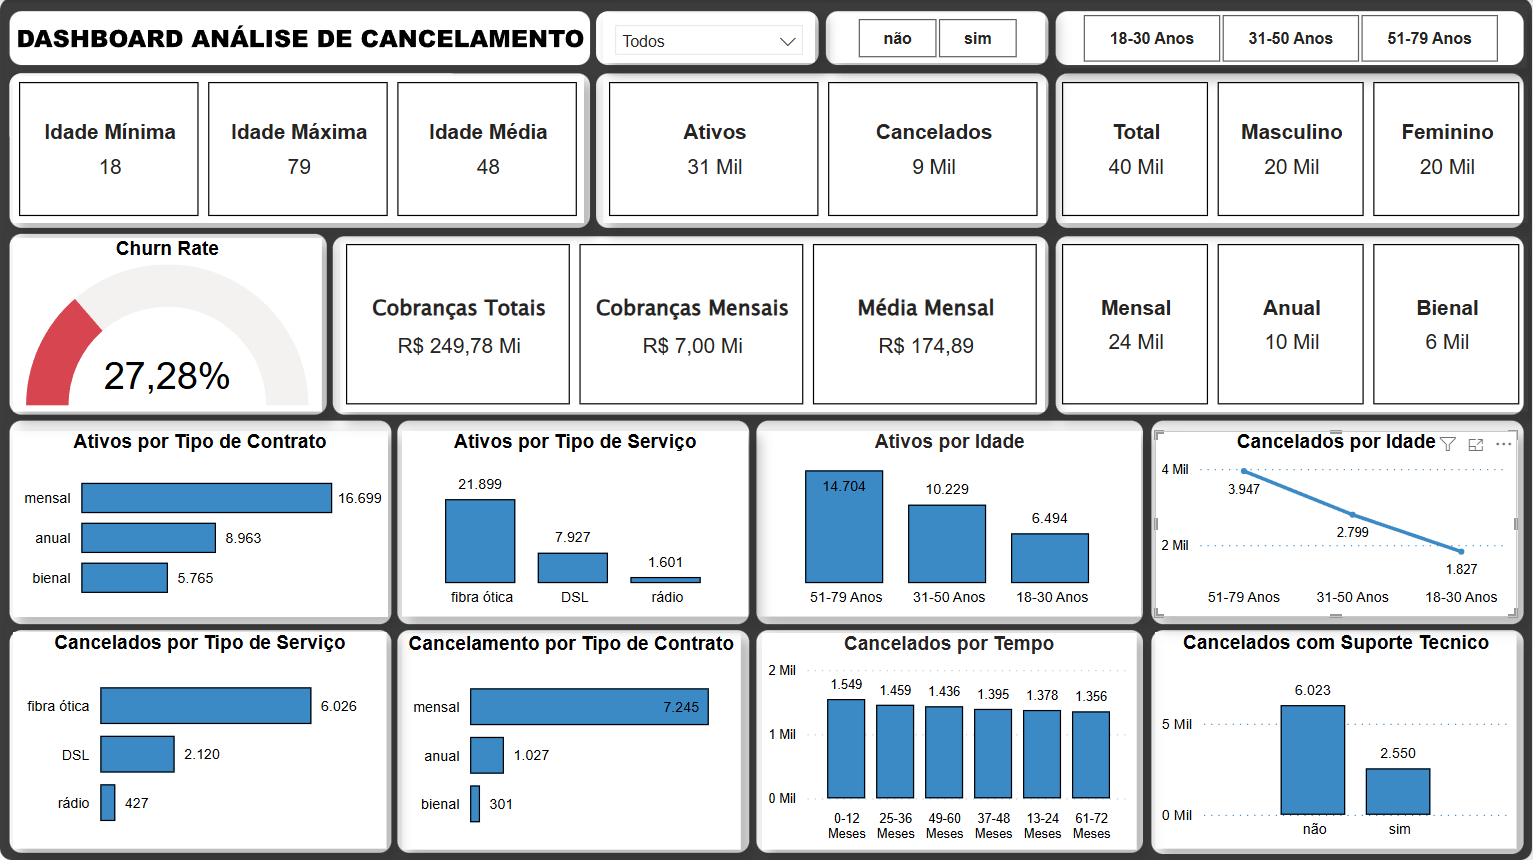

This screenshot's page, from the dashboard's own definition file:
{"tool":"powerbi","page":{"name":"Cancelamento","canvas":[1280,720],"ordinal":0},"visuals":[{"type":"slicer","fields":{"Values":["Cancelamento.Idade (grupos)"]},"box":[881.2,7.8,393.9,48.6],"z":1000},{"type":"slicer","fields":{"Values":["Cancelamento.TipoContrato"]},"box":[503.8,10.7,177,41.8],"z":2000},{"type":"cardVisual","fields":{"Data":["Medidas.Idade Mínima","Medidas.Idade Máxima","Medidas.Idade Média"]},"box":[10.7,63.2,476.6,122.6],"z":3000},{"type":"cardVisual","fields":{"Data":["Medidas.Cobranças Totais","Medidas.Cobranças Mensais","Medidas.Média de Cobranças Mensais"]},"box":[283.6,198.7,589.4,144.7],"z":4000},{"type":"cardVisual","fields":{"Data":["Medidas.Clientes Totais","Medidas.Total Masculino","Medidas.Total Feminino"]},"box":[881.6,63.7,393.5,122.5],"z":5000},{"type":"cardVisual","fields":{"Data":["Medidas.Contratos Mensais","Medidas.Contratos Anuais","Medidas.Contratos Bienais"]},"box":[881.6,198.7,393.5,144.7],"z":6000},{"type":"cardVisual","fields":{"Data":["Medidas.Clientes Ativos","Medidas.Clientes Cancelados"]},"box":[503.8,63.2,369.6,122.6],"z":7000},{"type":"slicer","fields":{"Values":["Cancelamento.Cancelamento"]},"box":[693.5,10.7,180,42],"z":8000},{"type":"barChart","title":"Cancelamento por Tipo de Contrato","fields":{"Category":["Cancelamento.TipoContrato"],"Y":["Medidas.Cancelados"]},"box":[335.7,528.6,282.6,181.3],"z":9000},{"type":"barChart","title":"Ativos por Tipo de Contrato","fields":{"Category":["Cancelamento.TipoContrato"],"Y":["Medidas.Clientes Ativos"]},"box":[10.6,359.8,312.5,155.3],"z":10000},{"type":"columnChart","title":"Ativos por Idade","fields":{"Category":["Cancelamento.Idade (grupos)"],"Y":["Medidas.Clientes Ativos"]},"box":[632.8,359.8,320.2,155.3],"z":11000},{"type":"lineChart","title":"Cancelados por Idade","fields":{"Category":["Cancelamento.Idade (grupos)"],"Y":["Medidas.Clientes Cancelados"]},"box":[964.6,359.8,302.9,155.3],"z":12000},{"type":"gauge","fields":{"Y":["Medidas.Churn Rate"]},"box":[10.7,198.4,257.8,144.9],"z":13000},{"type":"columnChart","title":"Cancelados com Suporte Tecnico","fields":{"Category":["Cancelamento.SuporteTecnico"],"Y":["Medidas.Clientes Cancelados"]},"box":[964.9,528.1,302.5,180.9],"z":14000},{"type":"columnChart","title":"Ativos por Tipo de Serviço","fields":{"Category":["Cancelamento.ServiçoInternet"],"Y":["Medidas.Clientes Ativos"]},"box":[335.7,359.8,289.4,155.3],"z":15000},{"type":"barChart","title":"Cancelados por Tipo de Serviço","fields":{"Category":["Cancelamento.ServiçoInternet"],"Y":["Medidas.Clientes Cancelados"]},"box":[10.7,528.1,312.2,180.9],"z":16000},{"type":"columnChart","title":"Cancelados por Tempo","fields":{"Category":["Cancelamento.Tempo (grupos)"],"Y":["Medidas.Clientes Cancelados"]},"box":[636.6,528.6,312.5,181.3],"z":17000}]}

Visuals, with their boxes in screenshot pixels (x1, y1, x2, y2), scaled from the page's 1280x720 canvas onto the 1533x860 screenshot:
slicer - Cancelamento.Idade (grupos): 1055,9,1527,67
slicer - Cancelamento.TipoContrato: 603,13,815,63
cardVisual - Medidas.Idade Mínima x Medidas.Idade Máxima: 13,75,584,222
cardVisual - Medidas.Cobranças Totais x Medidas.Cobranças Mensais: 340,237,1046,410
cardVisual - Medidas.Clientes Totais x Medidas.Total Masculino: 1056,76,1527,222
cardVisual - Medidas.Contratos Mensais x Medidas.Contratos Anuais: 1056,237,1527,410
cardVisual - Medidas.Clientes Ativos x Medidas.Clientes Cancelados: 603,75,1046,222
slicer - Cancelamento.Cancelamento: 831,13,1046,63
"Cancelamento por Tipo de Contrato" barChart: 402,631,741,848
"Ativos por Tipo de Contrato" barChart: 13,430,387,615
"Ativos por Idade" columnChart: 758,430,1141,615
"Cancelados por Idade" lineChart: 1155,430,1518,615
gauge - Medidas.Churn Rate: 13,237,322,410
"Cancelados com Suporte Tecnico" columnChart: 1156,631,1518,847
"Ativos por Tipo de Serviço" columnChart: 402,430,749,615
"Cancelados por Tipo de Serviço" barChart: 13,631,387,847
"Cancelados por Tempo" columnChart: 762,631,1137,848
